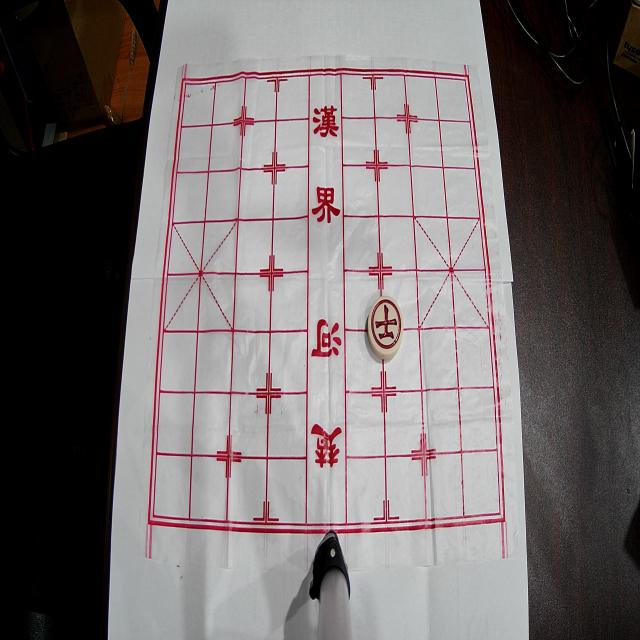red-guard: (368, 296, 403, 360)
